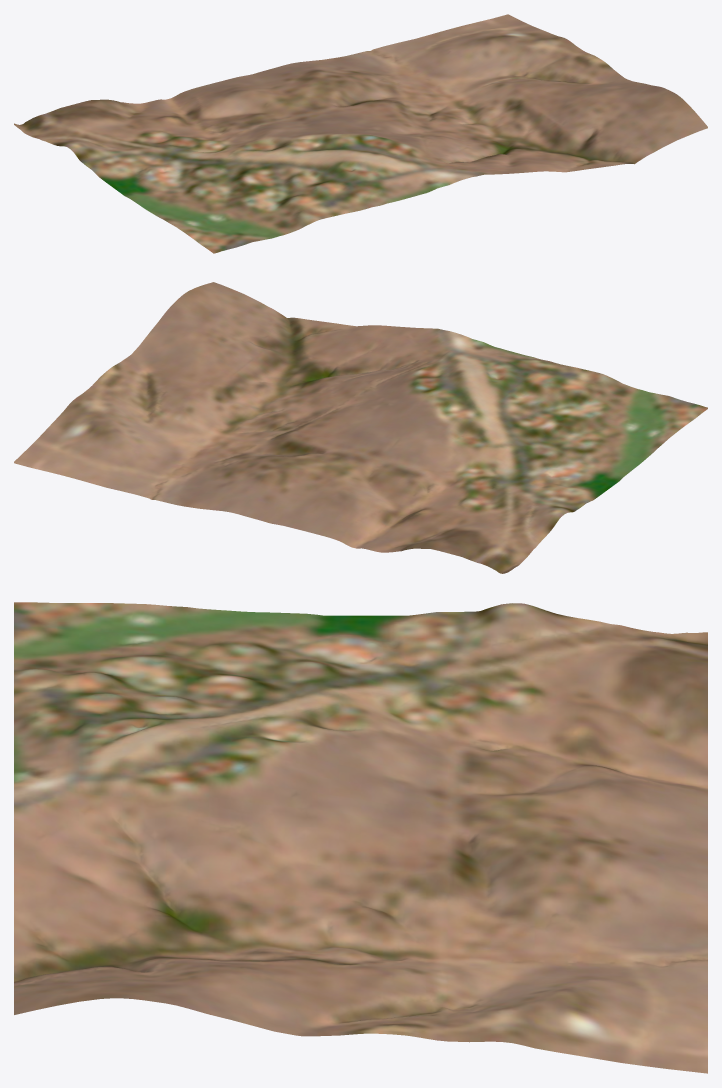
File: terrain_r6_c2.glb
3 renders of one model, top to bottom at view 1: azimuth 30°, elevation 25°; view 2: azimuth 150°, elevation 25°; view 3: azimuth 270°, elevation 25°, orthographic. The views are drawn at different scales.
Parts seen in each view (by area): view 1: terrain_r6_c2_lod0; view 2: terrain_r6_c2_lod0; view 3: terrain_r6_c2_lod0.
Boxes of the visible parts, <box> form: terrain_r6_c2_lod0: <box>14,14,707,253</box>; terrain_r6_c2_lod0: <box>14,282,707,573</box>; terrain_r6_c2_lod0: <box>14,602,707,1073</box>.
Bounding box in the file's own units: 1125 × 110 × 787.
1 material, 1 textured.
